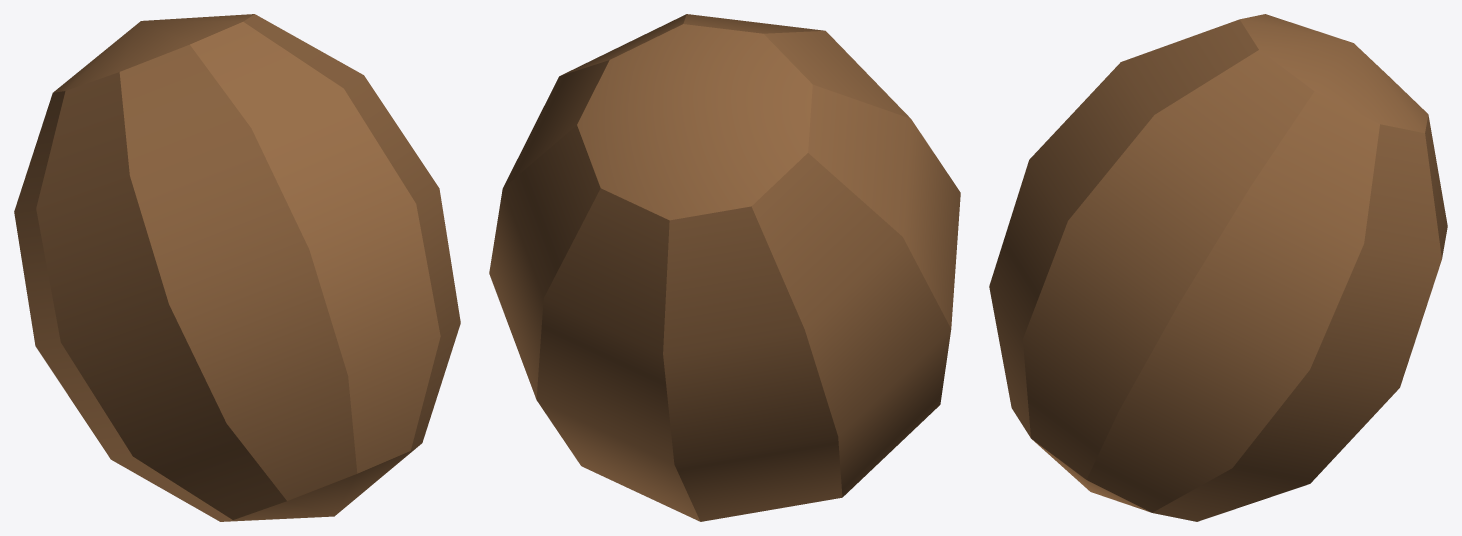
Rendered from coconut_003.glb.
3 views of the same model, side by side, from view 1: azimuth 30°, elevation 25°; view 2: azimuth 150°, elevation 25°; view 3: azimuth 270°, elevation 25° (orthographic). The views are drawn at different scales.
Parts seen in each view (by area): view 1: coconut.003; view 2: coconut.003; view 3: coconut.003.
Part boxes in pixels (bbox=[...]): coconut.003: bbox=[14, 14, 460, 521]; coconut.003: bbox=[489, 14, 960, 521]; coconut.003: bbox=[989, 14, 1447, 521].
Size of the model in its own units: 0.2229 by 0.2645 by 0.2382.
1 material, 1 textured.
